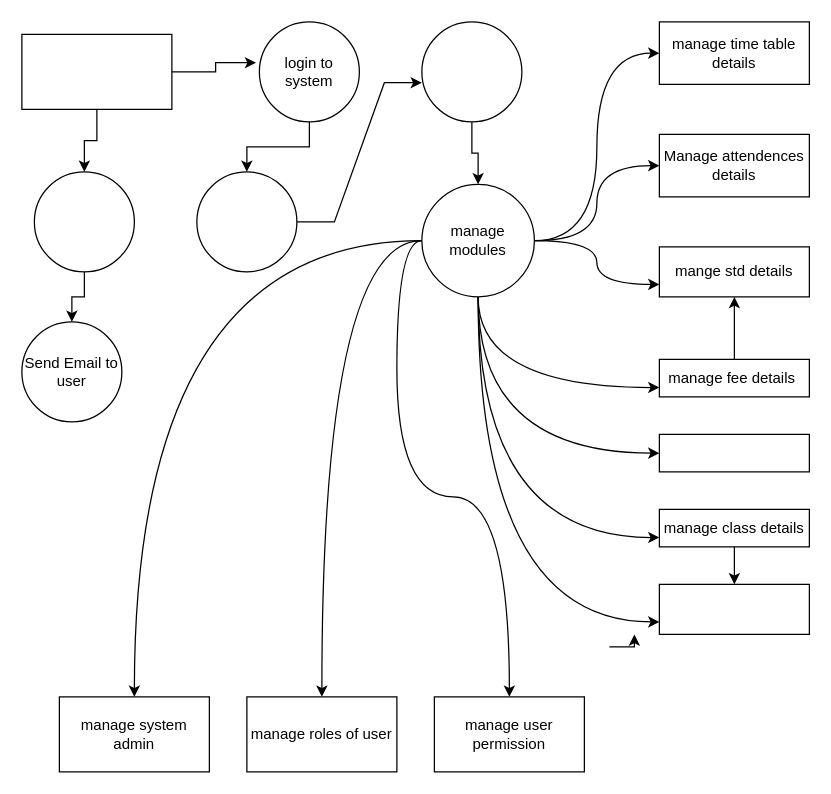
Image size: 831x794. Some labels were removed from this diagram. Here are the shapes that lost their labels. From the top down, the centre of each, then its label:
At [96,71]: "Admin".
At [471,71]: "Check roles of access".
At [83,221]: "Forgot password".
At [246,221]: "check credentials".
At [733,452]: "manage teacher profiles".
At [733,608]: "Manage report".
